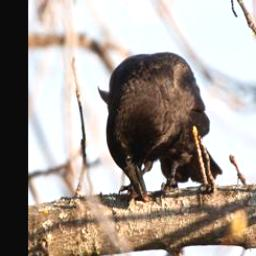Crow: (94, 49, 225, 202)
